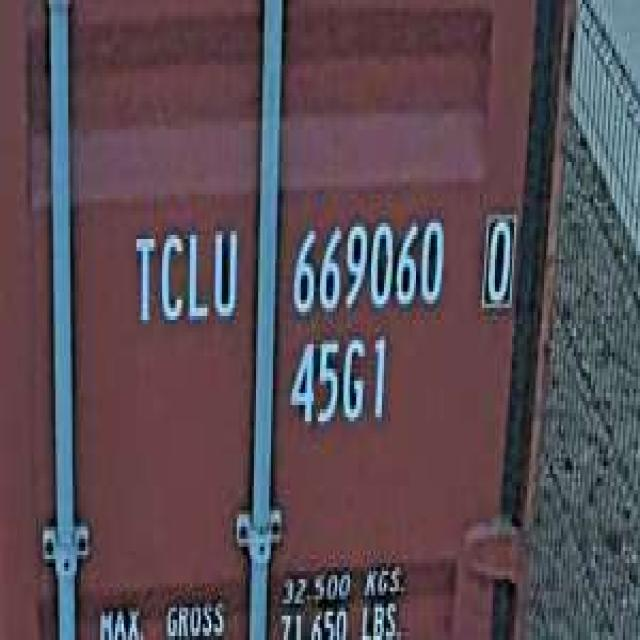dv: (476, 198, 518, 320)
owner: (128, 215, 241, 336)
serial: (284, 207, 450, 324)
size: (284, 328, 390, 438)
